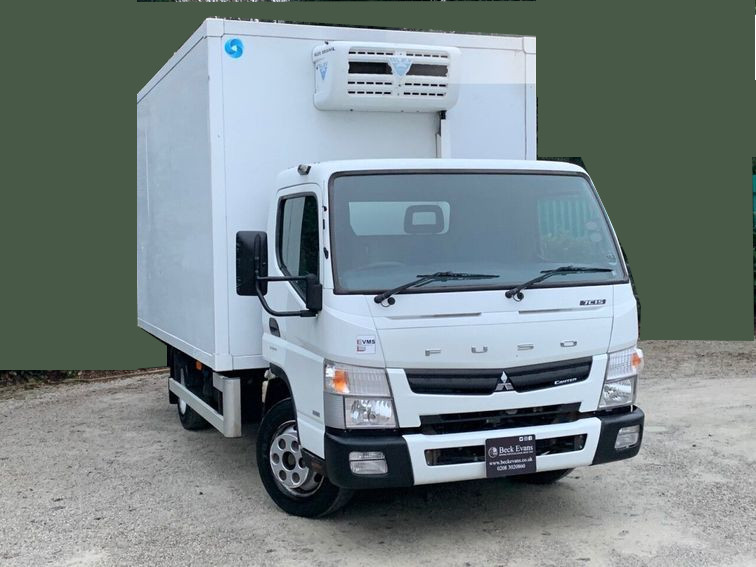Semi: (137, 18, 643, 518)
